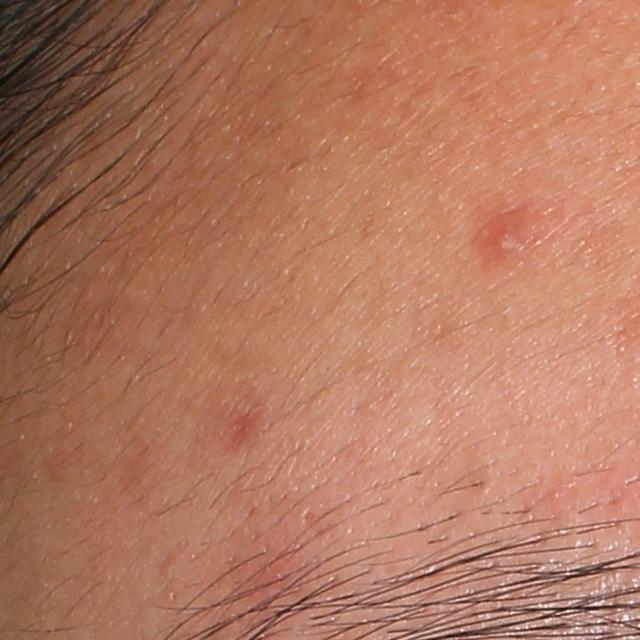papule: (467, 205, 528, 267)
